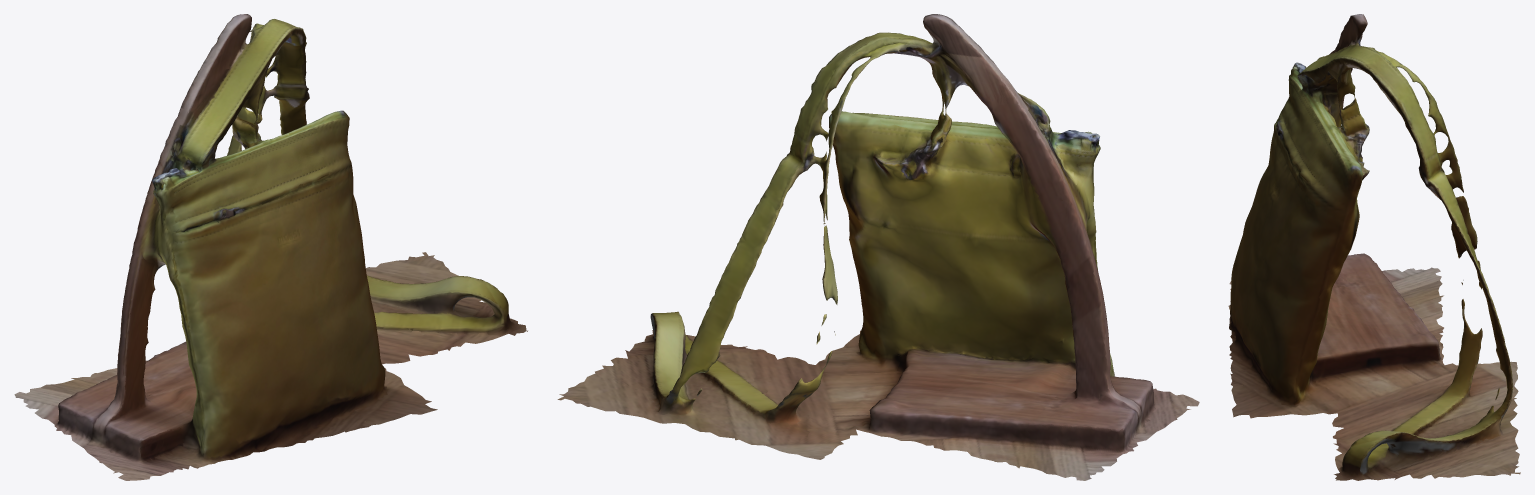
The model's file is yellow_bag.glb.
3 views of the same model, side by side, from view 1: azimuth 30°, elevation 25°; view 2: azimuth 150°, elevation 25°; view 3: azimuth 270°, elevation 25° (orthographic). The views are drawn at different scales.
Visible parts, largest first — view 1: test_Mesh; view 2: test_Mesh; view 3: test_Mesh.
Part boxes in pixels (box(x1,y1,x2,y2)): test_Mesh: box(14, 14, 527, 480); test_Mesh: box(557, 14, 1199, 480); test_Mesh: box(1228, 14, 1520, 480).
Bounding box in the file's own units: 0.0165 × 0.0128 × 0.00983.
1 material, 1 textured.
